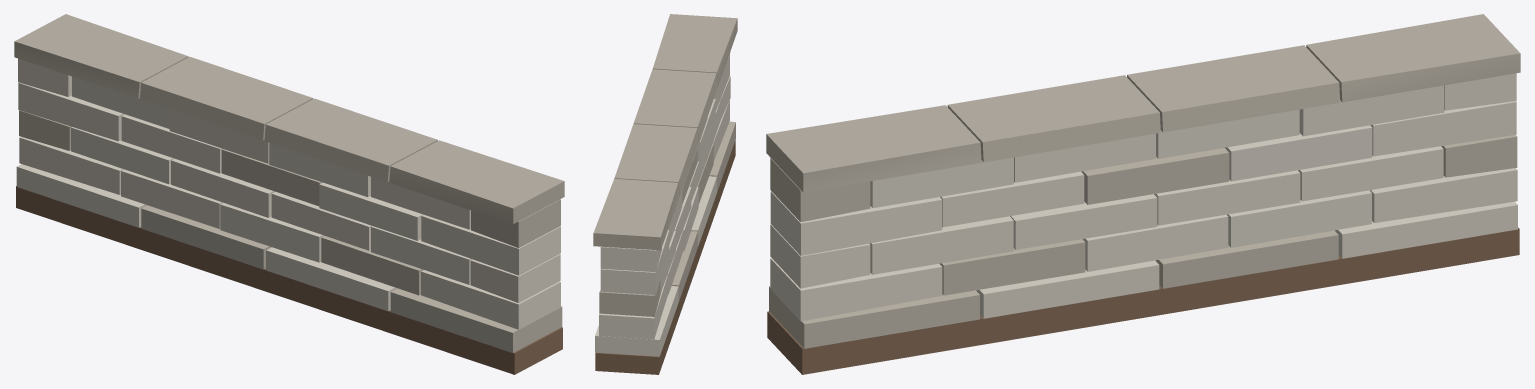
The model's file is south_indian_village_stone_wall_straight_4m.glb.
The picture shows the model from 3 angles, left to right: view 1: azimuth 30°, elevation 25°; view 2: azimuth 150°, elevation 25°; view 3: azimuth 270°, elevation 25°; orthographic projection. The views are drawn at different scales.
Visible parts, largest first — view 1: Granite_Ashlar_Courses, Wall_Coping_Cap_Stones, Wall_Plinth_Foundation, Wall_Subgrade_Skirt; view 2: Wall_Coping_Cap_Stones, Granite_Ashlar_Courses, Wall_Plinth_Foundation, Wall_Subgrade_Skirt; view 3: Granite_Ashlar_Courses, Wall_Coping_Cap_Stones, Wall_Plinth_Foundation, Wall_Subgrade_Skirt.
Part boxes in pixels (left/top/right/bottom): Granite_Ashlar_Courses: left=18, top=58, right=560, bottom=329; Wall_Coping_Cap_Stones: left=14, top=14, right=564, bottom=224; Wall_Plinth_Foundation: left=16, top=164, right=562, bottom=352; Wall_Subgrade_Skirt: left=16, top=186, right=562, bottom=374; Wall_Coping_Cap_Stones: left=593, top=14, right=737, bottom=250; Granite_Ashlar_Courses: left=599, top=52, right=730, bottom=339; Wall_Plinth_Foundation: left=595, top=121, right=735, bottom=356; Wall_Subgrade_Skirt: left=595, top=140, right=735, bottom=374; Granite_Ashlar_Courses: left=770, top=73, right=1517, bottom=321; Wall_Coping_Cap_Stones: left=766, top=14, right=1520, bottom=192; Wall_Plinth_Foundation: left=769, top=201, right=1517, bottom=348; Wall_Subgrade_Skirt: left=767, top=227, right=1519, bottom=374.
Size of the model in its own units: 1.96 by 1.16 by 3.91.
